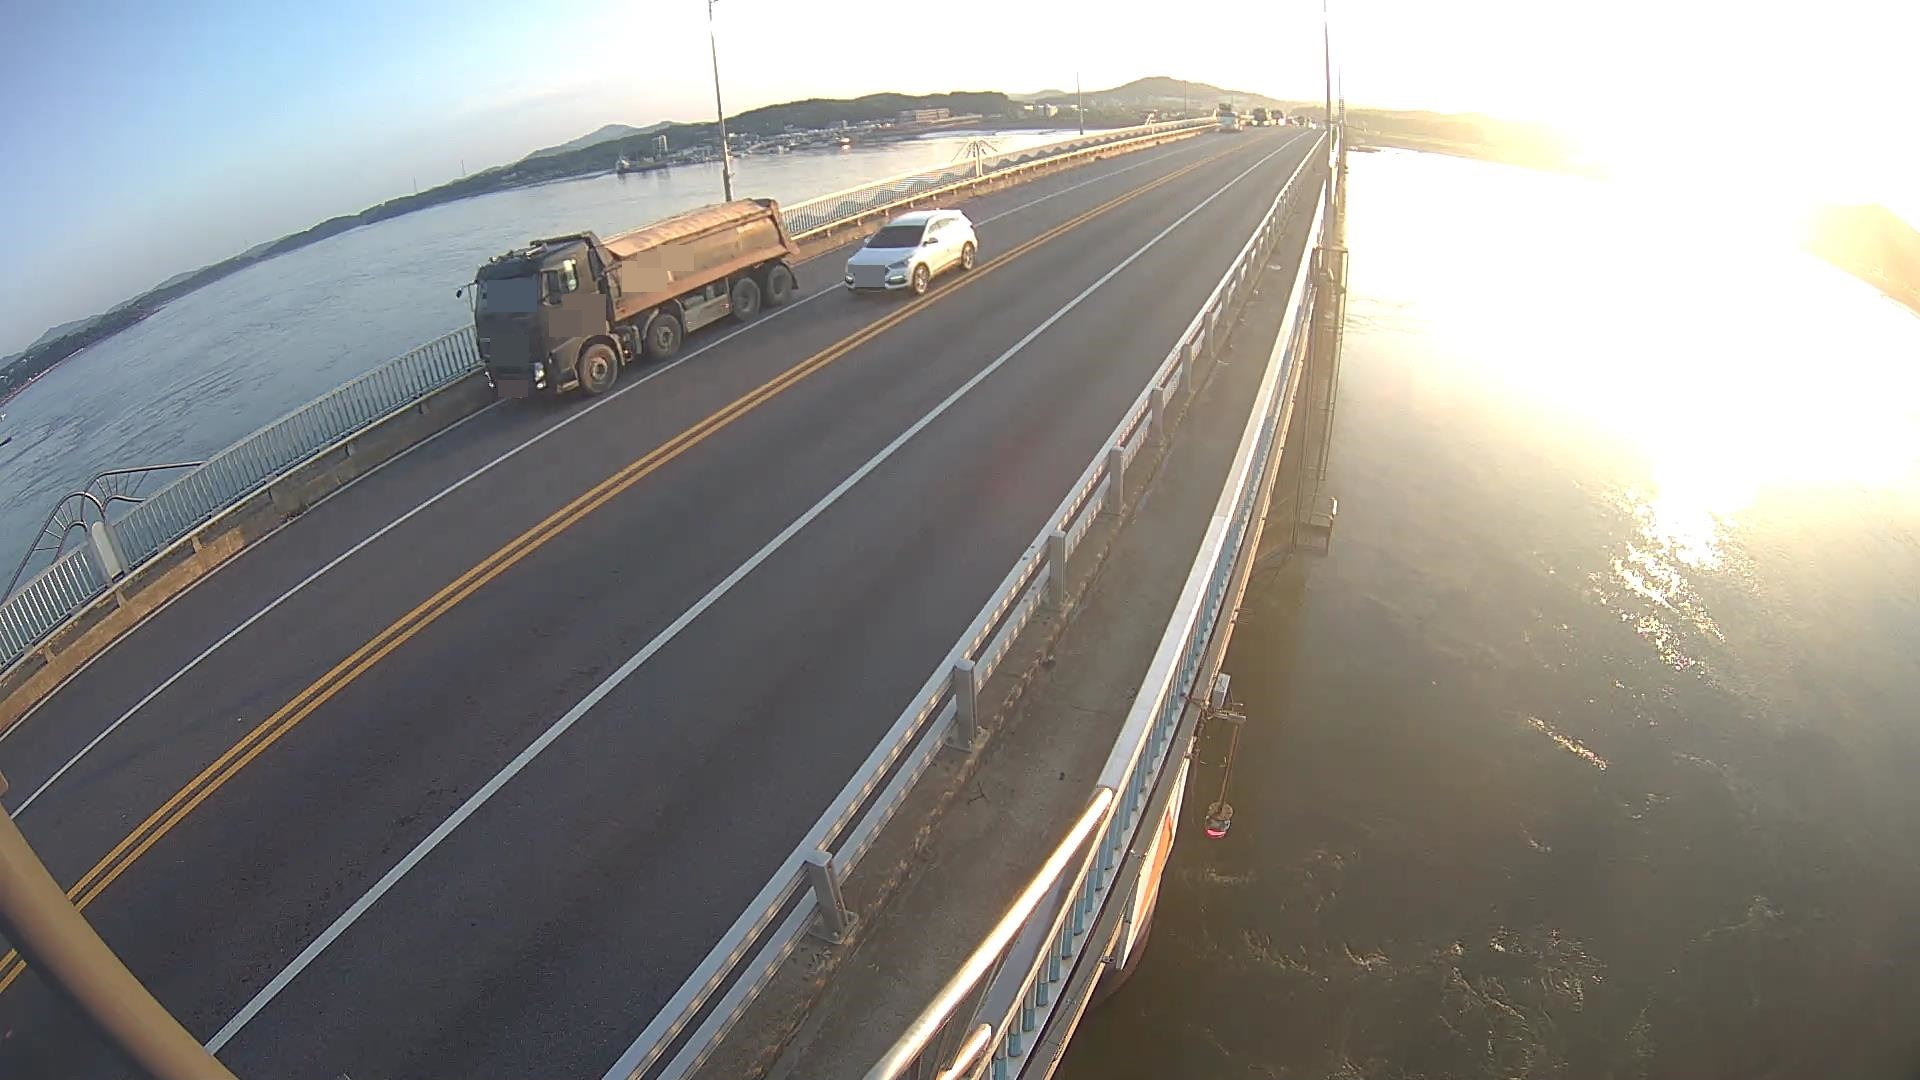정상차량: (455, 198, 799, 397)
